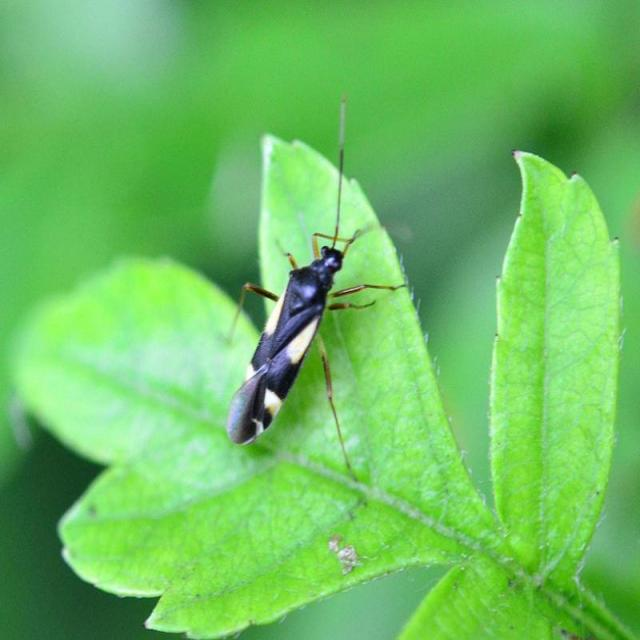Miridae-Adult-: (222, 93, 395, 465)
